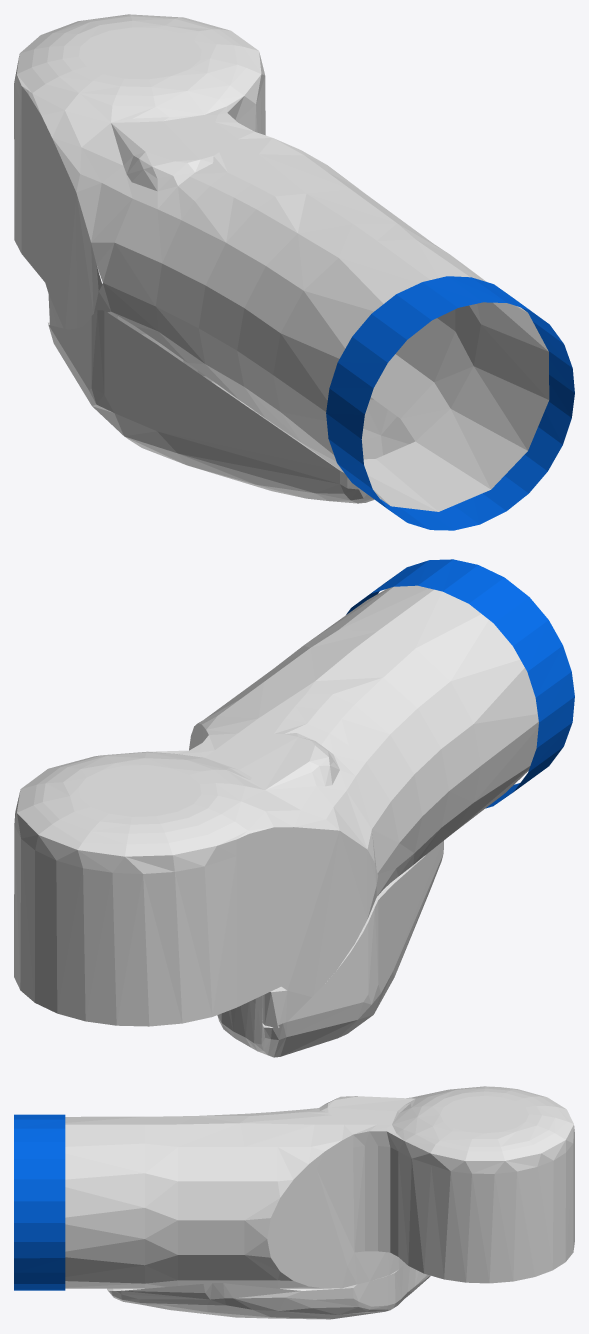
The model's file is RARM_LINK2_mesh.dae.
The picture shows the model from 3 angles, top to bottom: view 1: azimuth 30°, elevation 25°; view 2: azimuth 150°, elevation 25°; view 3: azimuth 270°, elevation 25°; orthographic projection. The views are drawn at different scales.
Visible parts, largest first — view 1: RARM_LINK2 (×4); view 2: RARM_LINK2 (×4); view 3: RARM_LINK2 (×4).
Boxes of the visible parts, x1,y1,x2,y2 form: RARM_LINK2 (×4): (14,14,574,530); RARM_LINK2 (×4): (14,559,574,1057); RARM_LINK2 (×4): (14,1086,574,1319).
Size of the model in its own units: 0.092 by 0.1035 by 0.2509.
